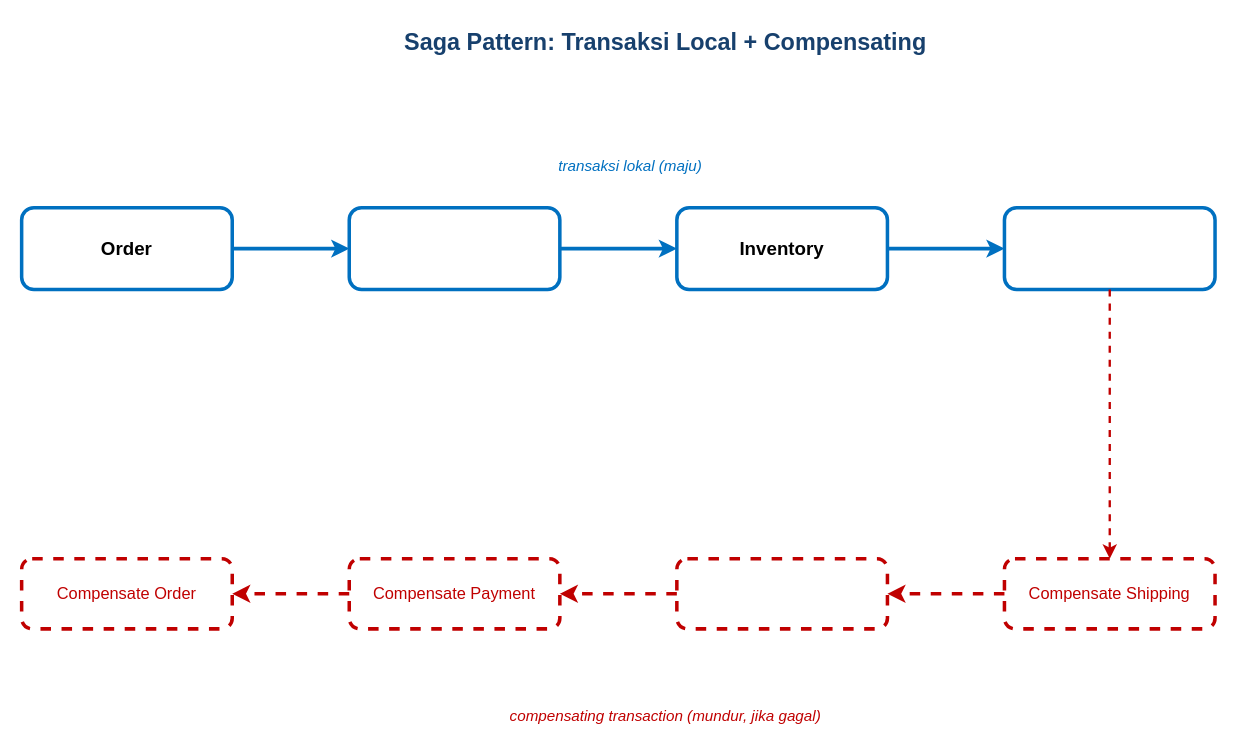
Image size: 1237x749. Some labels were removed from this diagram. The shapes that lost their labels are listed below. From the top down, each one's centre as x and y in pixels, then its label:
At (454,248): "Payment".
At (1109,248): "Shipping".
At (782,593): "Compensate Inventory".
